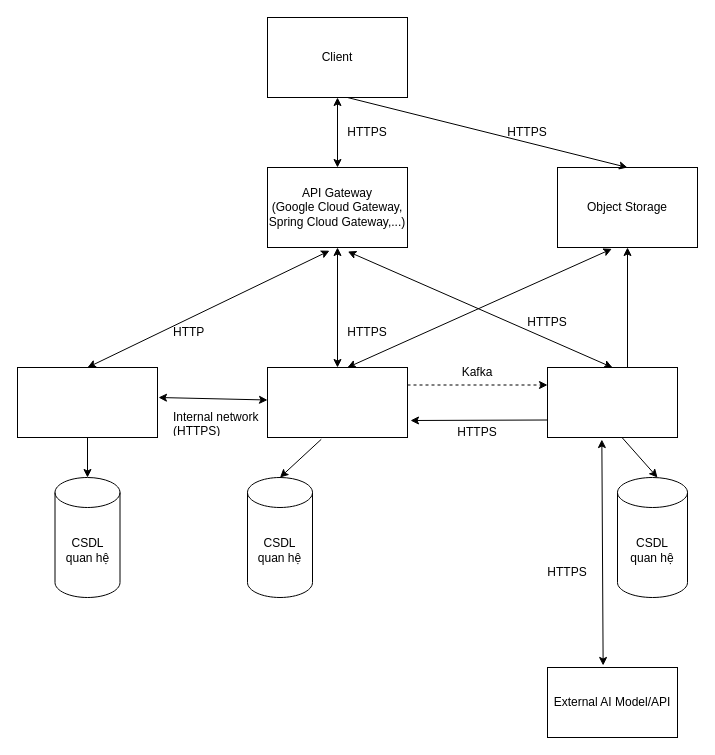
The diagram is 715 pixels wide and 755 high, and some of its shapes have lost their labels. The centre of each missing label's shape, as x and y in pixels:
"Agent Service (Kết nối với model AI, cung cấp API)" belongs at (x=612, y=402).
"Auth Service (Xác thực người dùng)" belongs at (x=87, y=402).
"Storage Service (Core của hệ thống lưu trữ đám mây, chuẩn S3)" belongs at (x=337, y=402).
